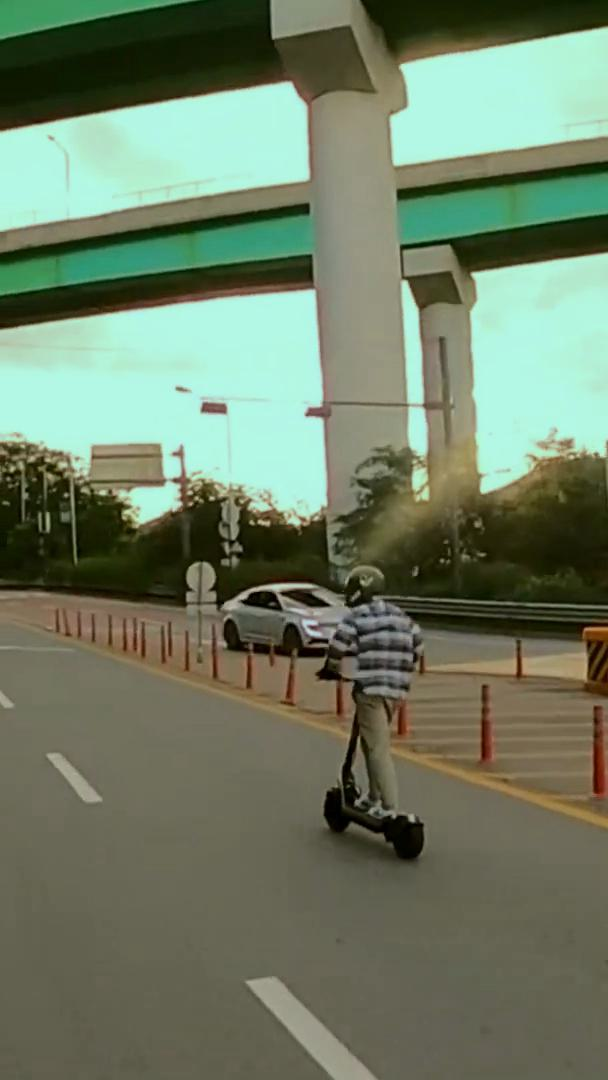helmet: (316, 563, 431, 858)
